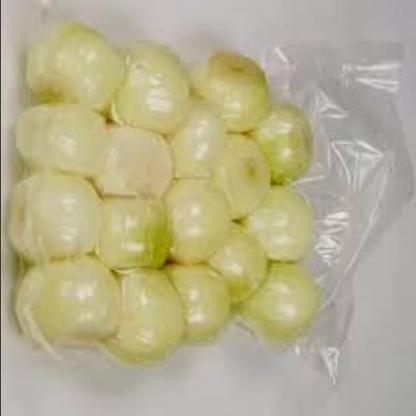onion: (13, 28, 333, 362)
